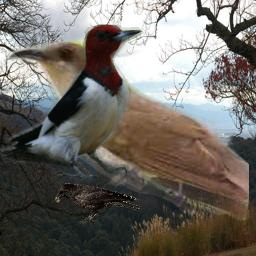Crow: (54, 183, 140, 224)
Cuckoo: (2, 41, 249, 223)
Woodpecker: (0, 24, 145, 180)
